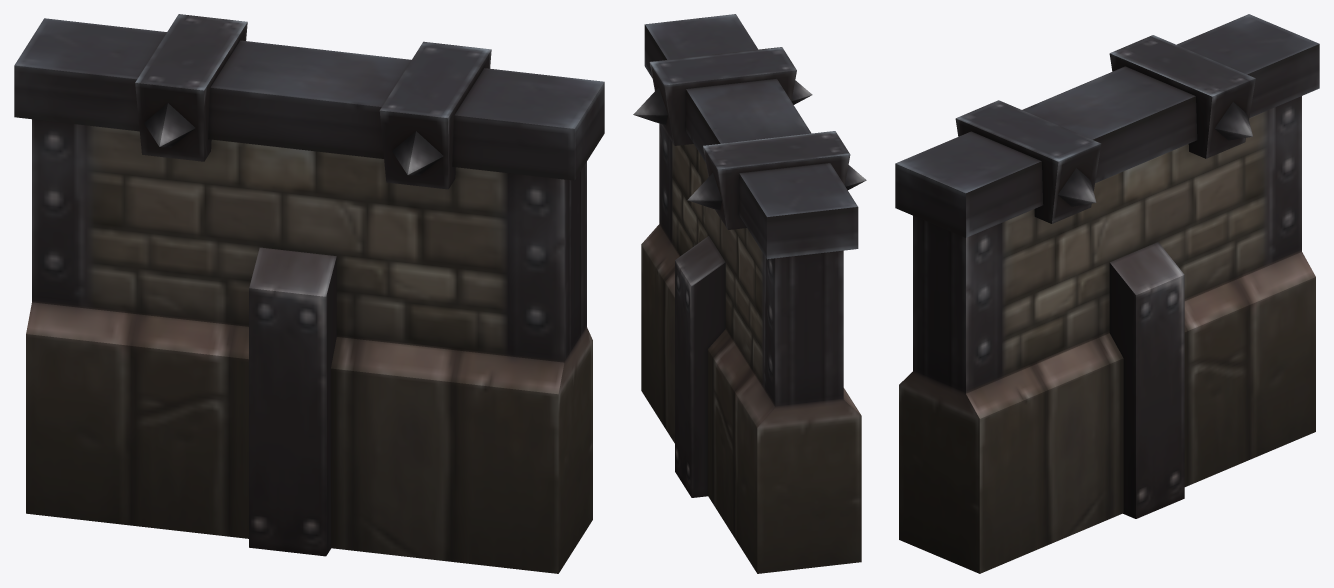
Rendered from Wall_Stone_el2.fbx.
The picture shows the model from 3 angles, left to right: view 1: azimuth 30°, elevation 25°; view 2: azimuth 150°, elevation 25°; view 3: azimuth 270°, elevation 25°; orthographic projection. The views are drawn at different scales.
Parts seen in each view (by area): view 1: Wall_Stone_el2; view 2: Wall_Stone_el2; view 3: Wall_Stone_el2.
Boxes of the visible parts, x1,y1,x2,y2 form: Wall_Stone_el2: [14, 14, 604, 573]; Wall_Stone_el2: [633, 14, 866, 573]; Wall_Stone_el2: [895, 14, 1319, 573].
Bounding box in the file's own units: 210 × 213 × 210.
1 material, 1 textured.
